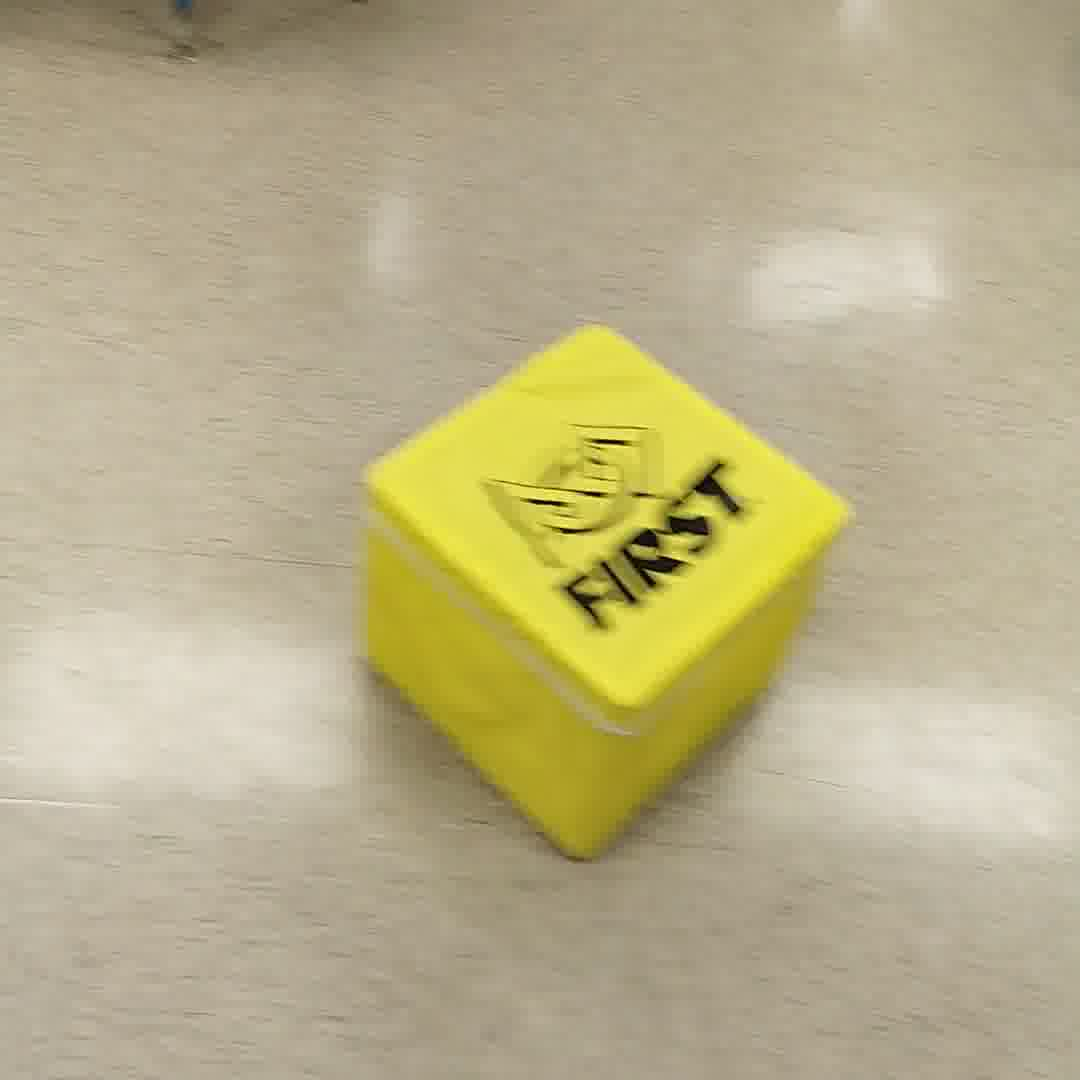box: (355, 329, 859, 853)
